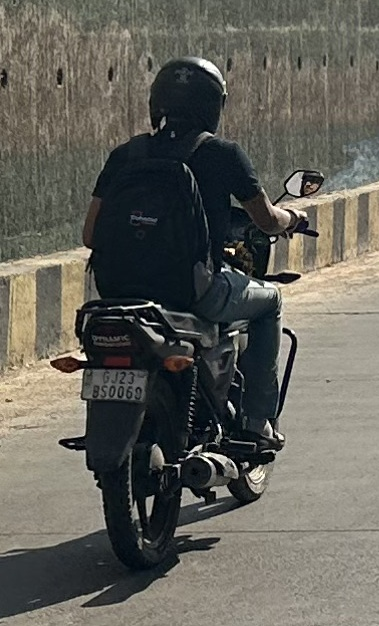BikeWithRider: (40, 47, 331, 578)
Helmet: (138, 48, 235, 145)
